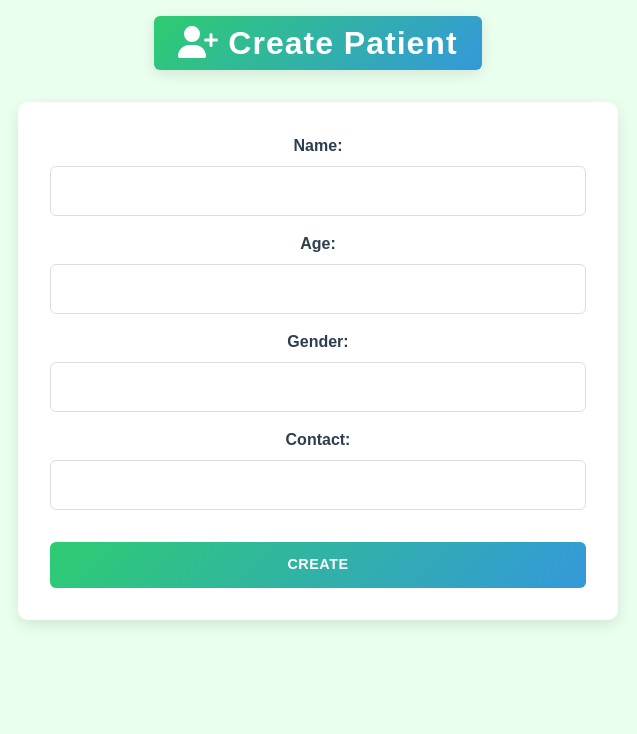
Scenario: PatientCreate.vue › mostra mensagem de sucesso quando paciente é criado
Type "João Silva" into the field with id "name".
click(318, 191); type("João Silva")  # box [50,166,586,216]
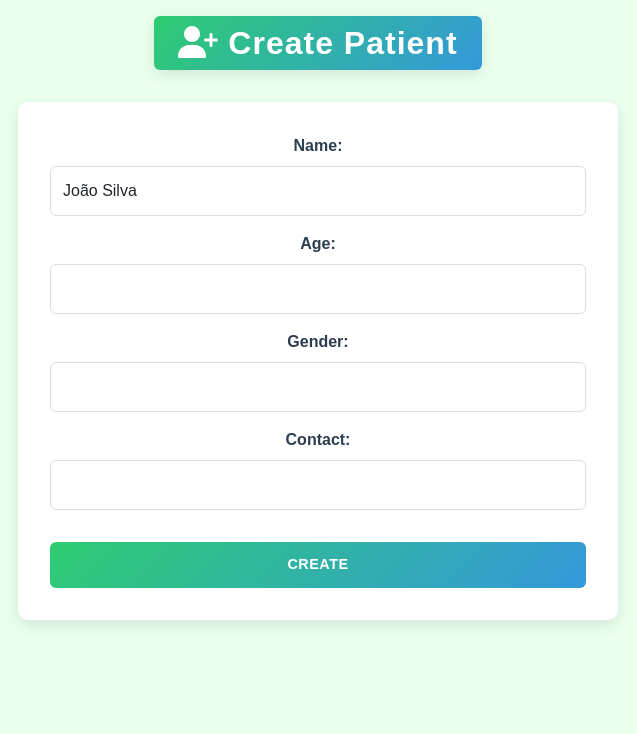
Type "30" into the number field with id "age".
click(318, 289); type("30")  # box [50,264,586,314]
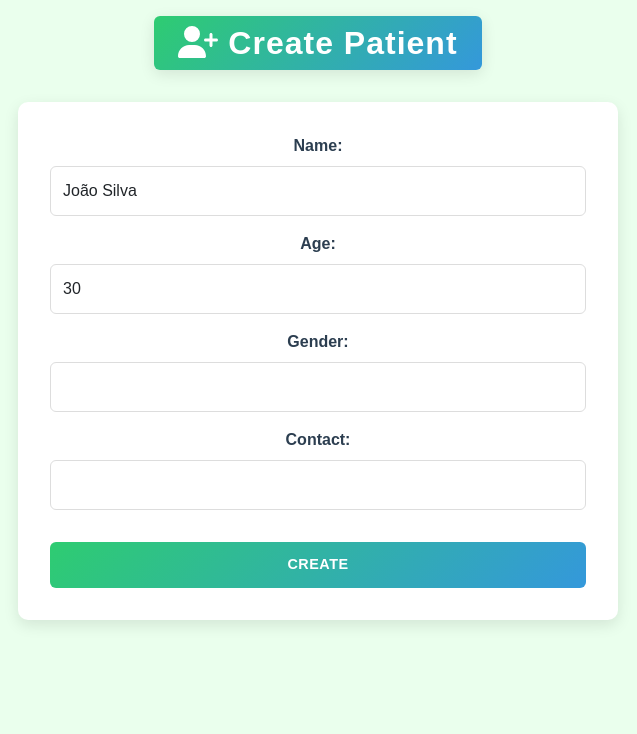
Type "Male" into the field with id "gender".
click(318, 387); type("Male")  # box [50,362,586,412]
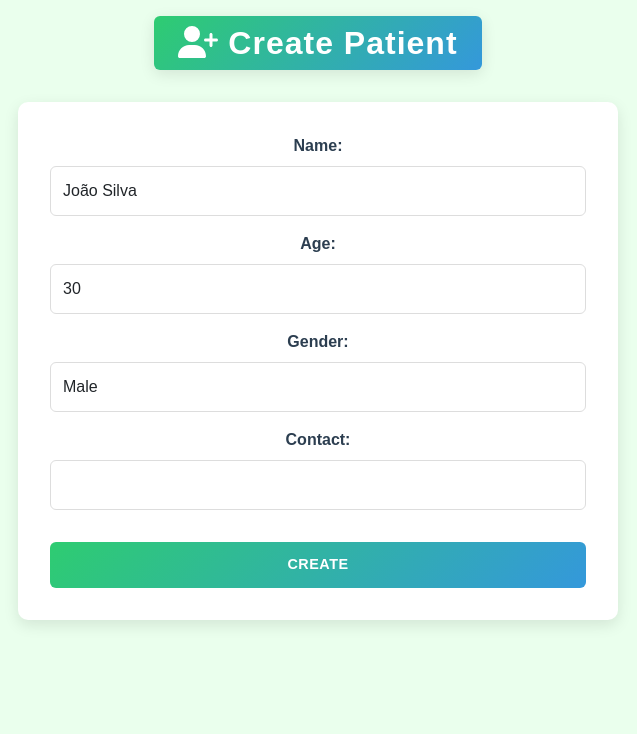
Type "11999999999" into the field with id "contact".
click(318, 485); type("11999999999")  # box [50,460,586,510]
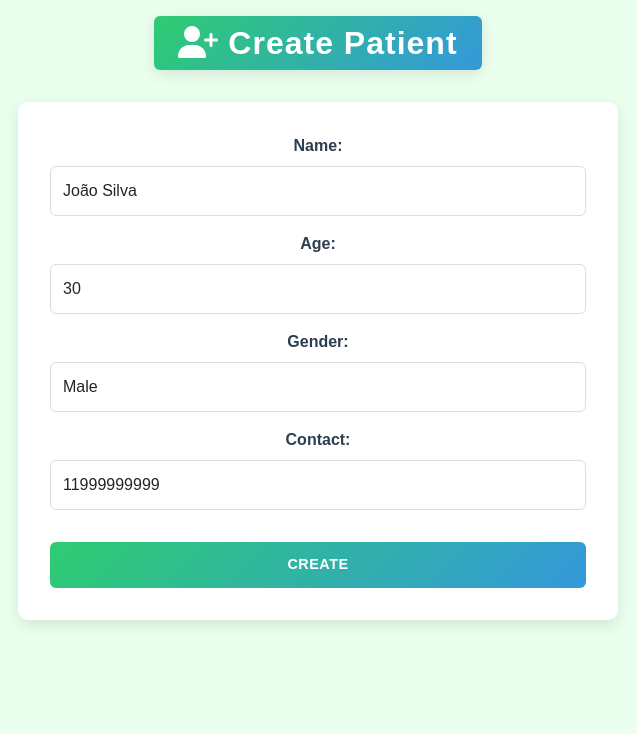
Submit the form
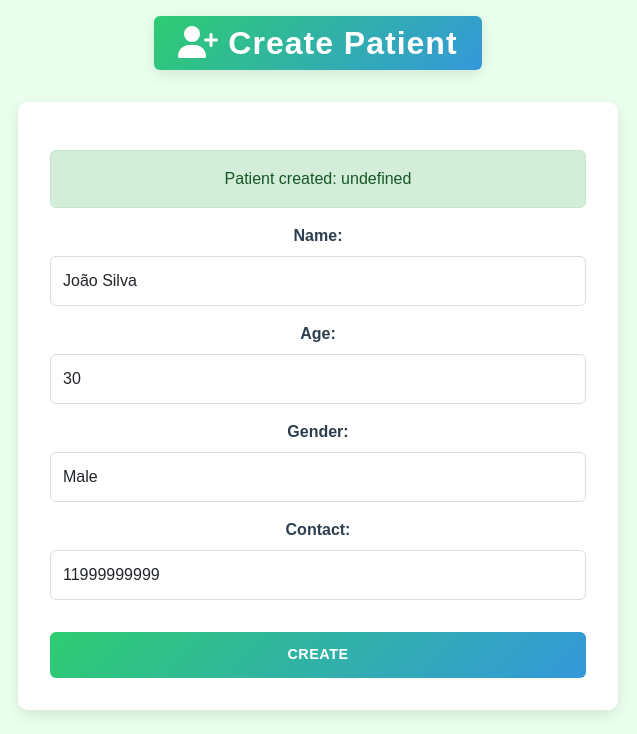
Result: the text "Patient created: undefined" is shown at [50,150,586,208]
